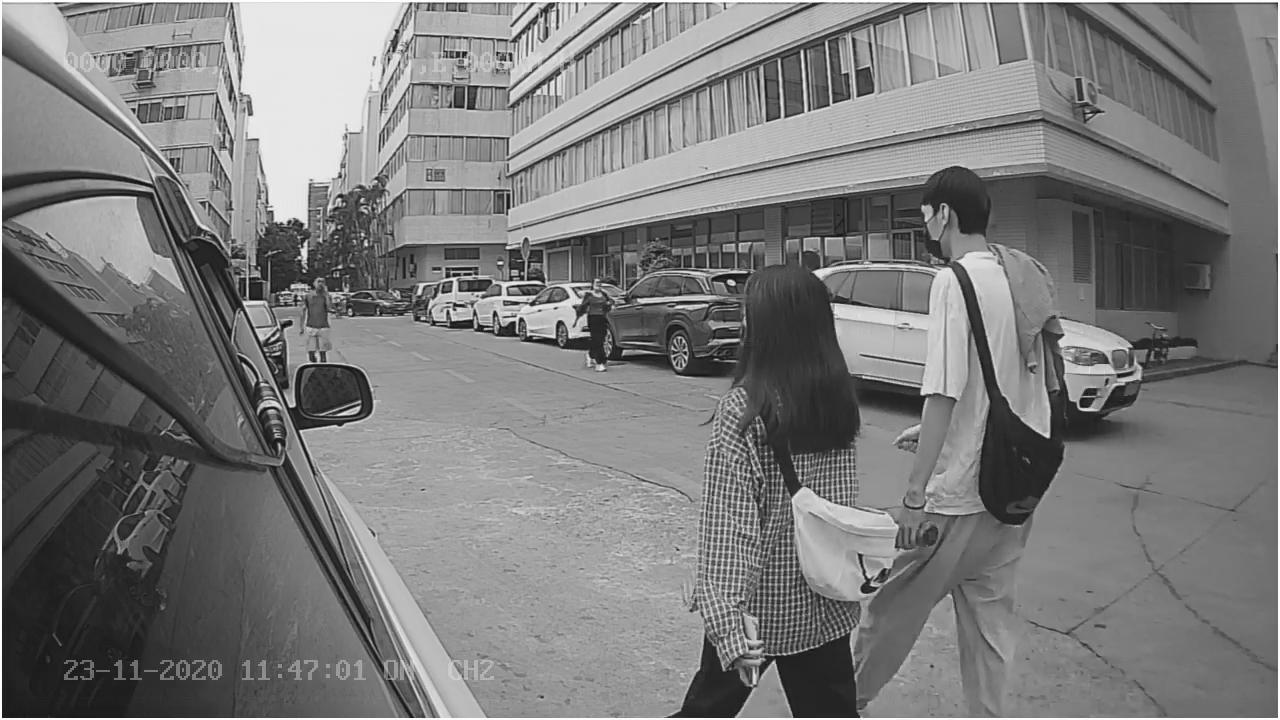person: (662, 242, 869, 675), (898, 154, 1069, 558)
